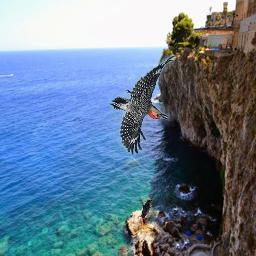Crow: (140, 198, 153, 218)
Woodpecker: (109, 56, 175, 155)
